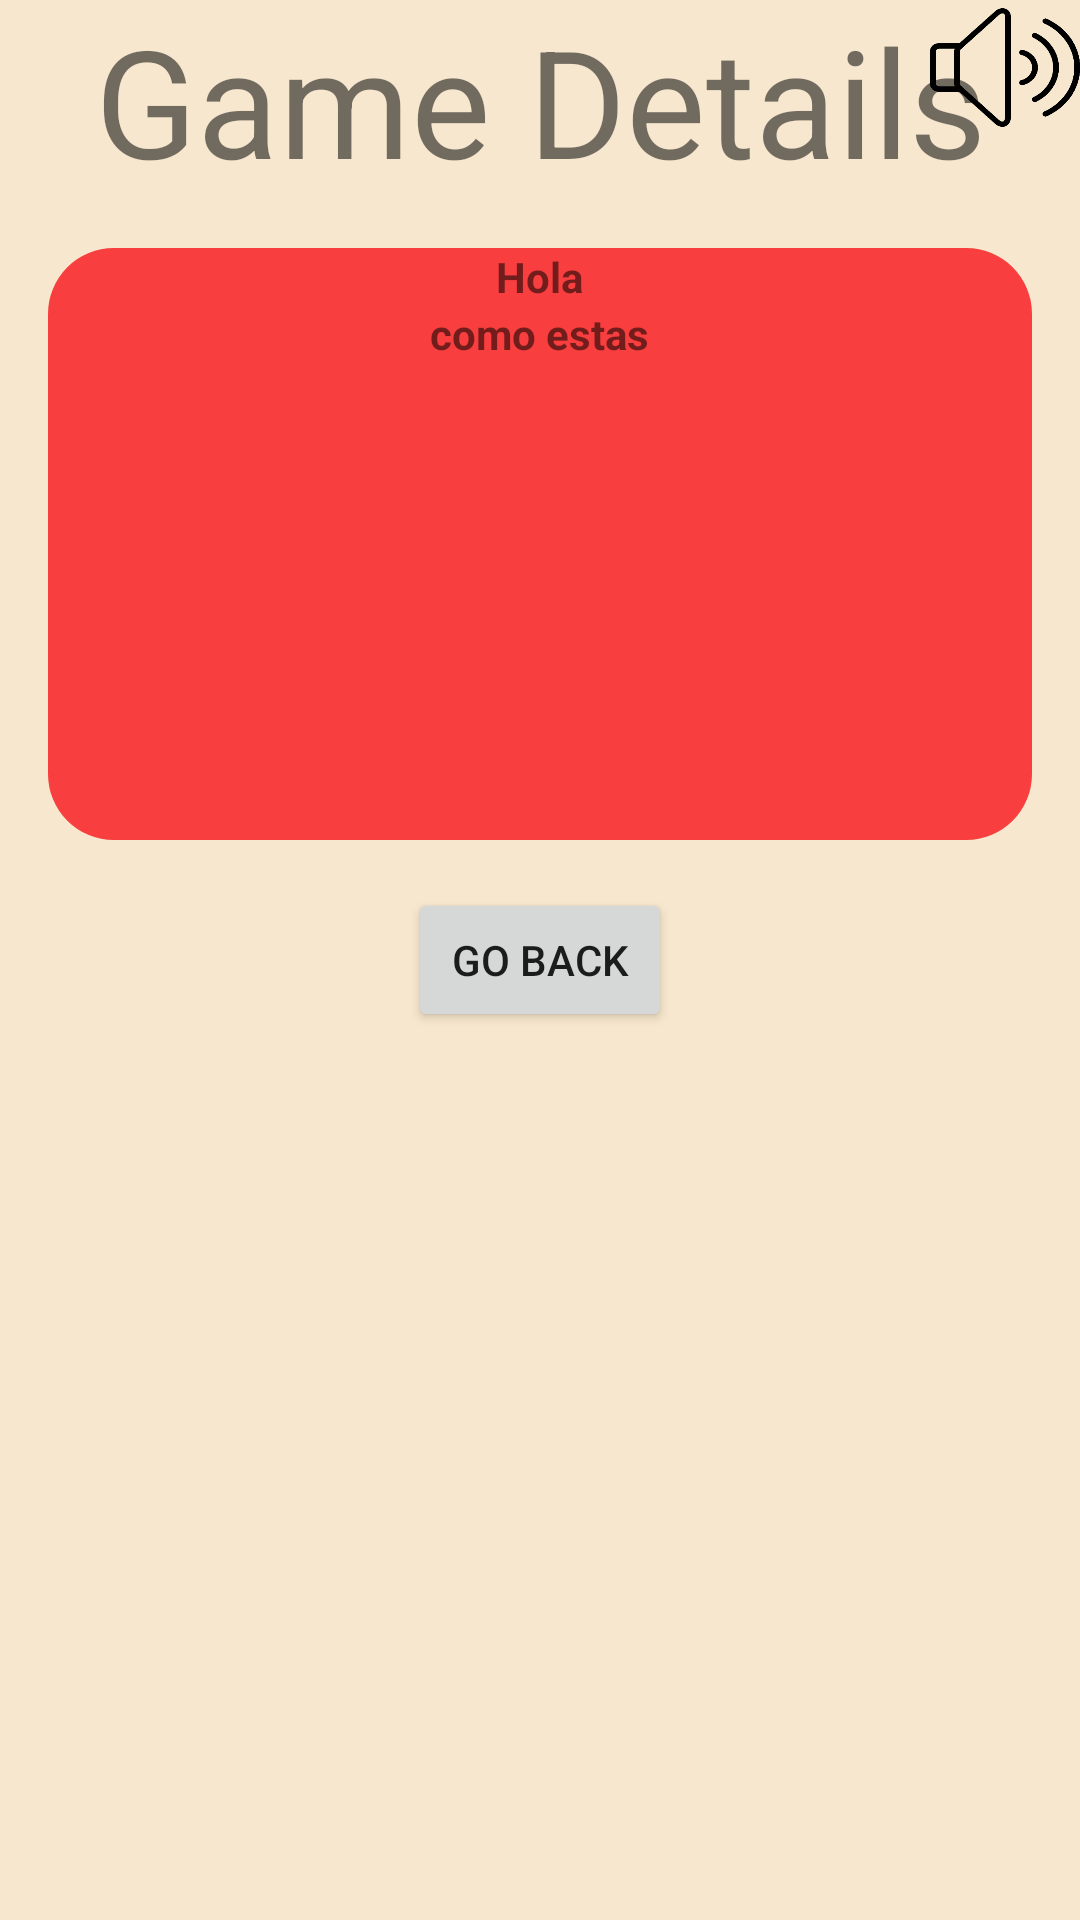

Point at icon controls on the screen. Image size 1080×1920, points as point (x, y).
audio on: point (1005, 71)
